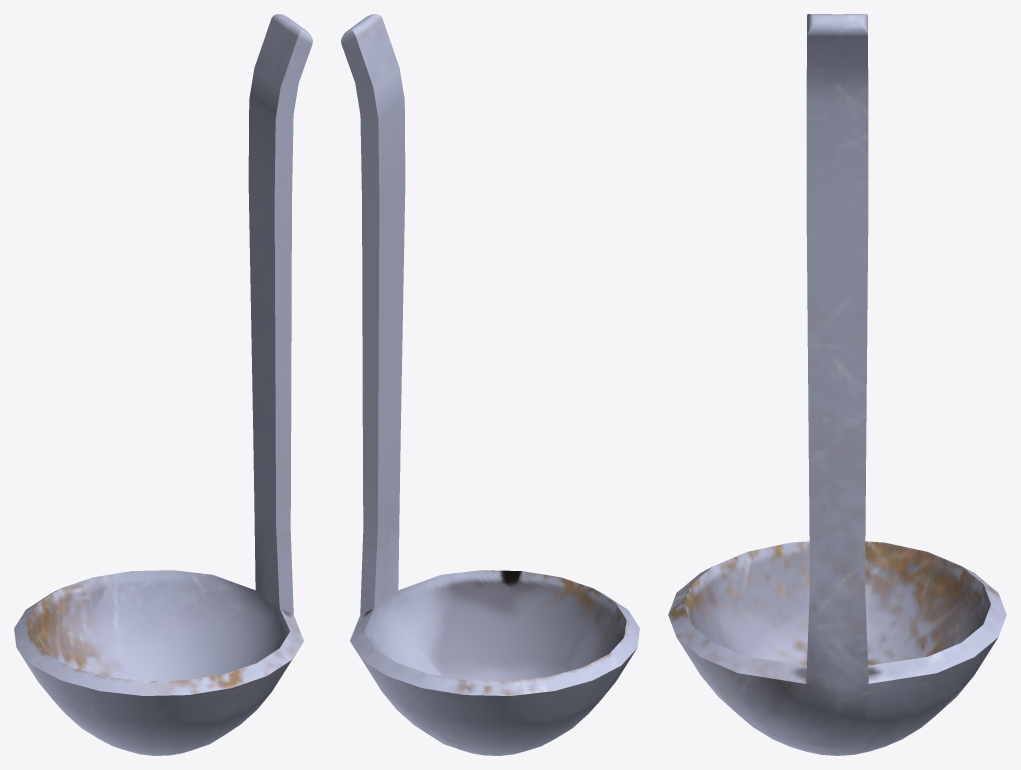
File: SM_Ladel01.fbx
3 renders of one model, left to right at view 1: azimuth 30°, elevation 25°; view 2: azimuth 150°, elevation 25°; view 3: azimuth 270°, elevation 25°, orthographic. The views are drawn at different scales.
Parts seen in each view (by area): view 1: SM_Ladel01_LOD0; view 2: SM_Ladel01_LOD0; view 3: SM_Ladel01_LOD0.
Part boxes in pixels (bbox=[...]): SM_Ladel01_LOD0: bbox=[14, 14, 312, 755]; SM_Ladel01_LOD0: bbox=[341, 14, 639, 755]; SM_Ladel01_LOD0: bbox=[668, 14, 1006, 755].
Bounding box in the file's own units: 20.69 × 19.5 × 51.1.
Materials: 1 (1 with a texture image).
